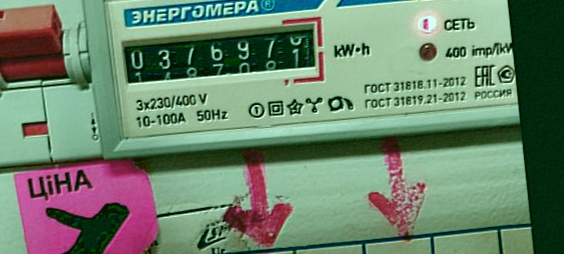0: (129, 48, 147, 71)
1: (291, 47, 302, 70)
3: (158, 48, 173, 70)
6: (209, 39, 226, 63)
7: (183, 42, 199, 67), (263, 34, 279, 58)
9: (236, 38, 252, 61)
screen: (112, 12, 332, 106)
